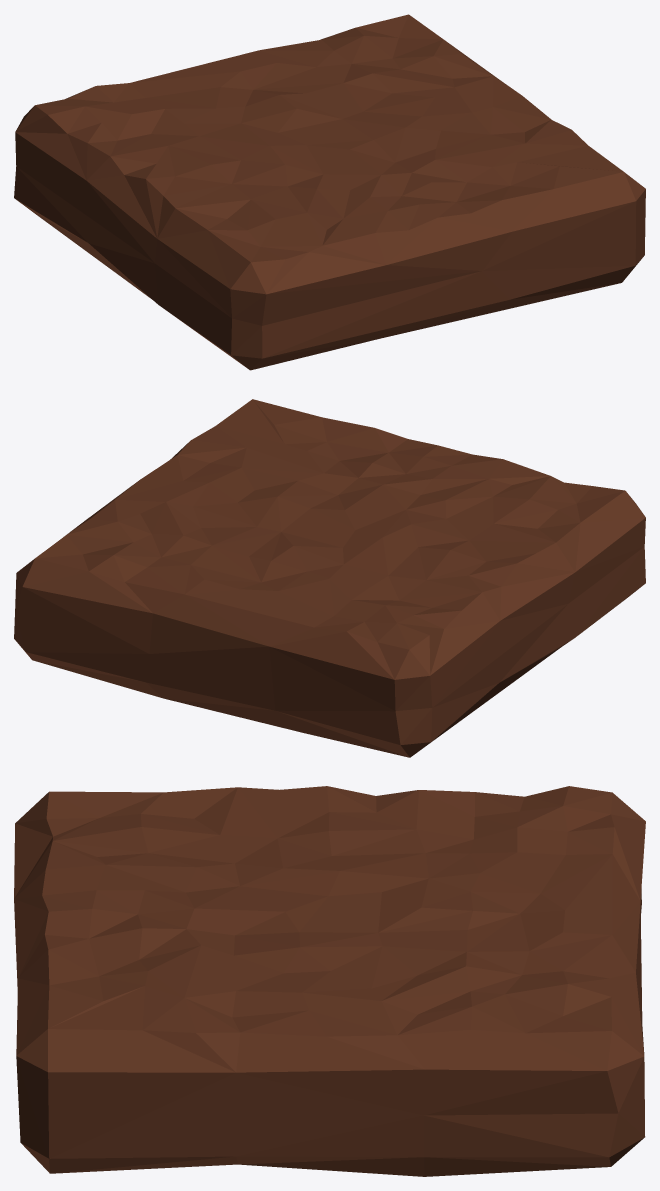
The model's file is dirt_patch_3.glb.
3 renders of one model, top to bottom at view 1: azimuth 30°, elevation 25°; view 2: azimuth 150°, elevation 25°; view 3: azimuth 270°, elevation 25°, orthographic. The views are drawn at different scales.
Visible parts, largest first — view 1: Cube.002; view 2: Cube.002; view 3: Cube.002.
Boxes of the visible parts, bbox=[...] form: Cube.002: bbox=[14, 14, 645, 370]; Cube.002: bbox=[14, 399, 645, 757]; Cube.002: bbox=[14, 786, 645, 1176].
Size of the model in its own units: 2.02 by 0.5463 by 2.02.
